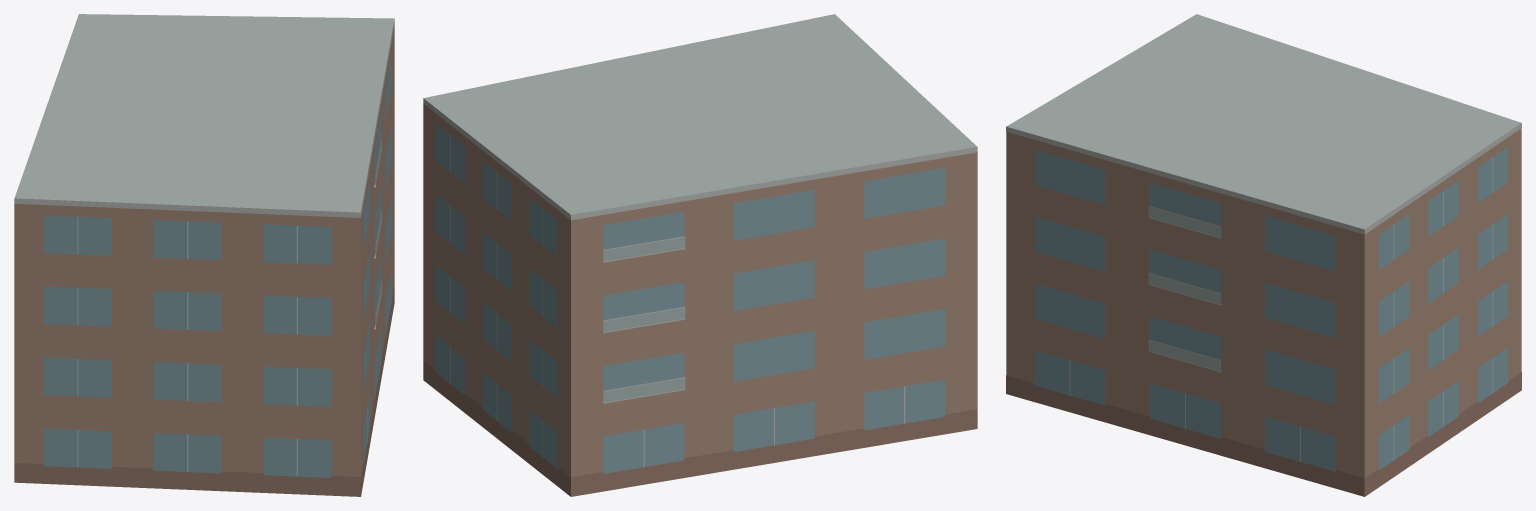
The model's file is survey-upis-33030279.glb.
The picture shows the model from 3 angles, left to right: view 1: azimuth 30°, elevation 25°; view 2: azimuth 150°, elevation 25°; view 3: azimuth 270°, elevation 25°; orthographic projection. The views are drawn at different scales.
Parts seen in each view (by area): view 1: survey-upis-33030279.tmp; view 2: survey-upis-33030279.tmp; view 3: survey-upis-33030279.tmp.
Boxes of the visible parts, <box> form: survey-upis-33030279.tmp: <box>14,14,394,496</box>; survey-upis-33030279.tmp: <box>423,14,977,496</box>; survey-upis-33030279.tmp: <box>1006,14,1521,496</box>.
Size of the model in its own units: 22.13 by 12.8 by 22.38.
